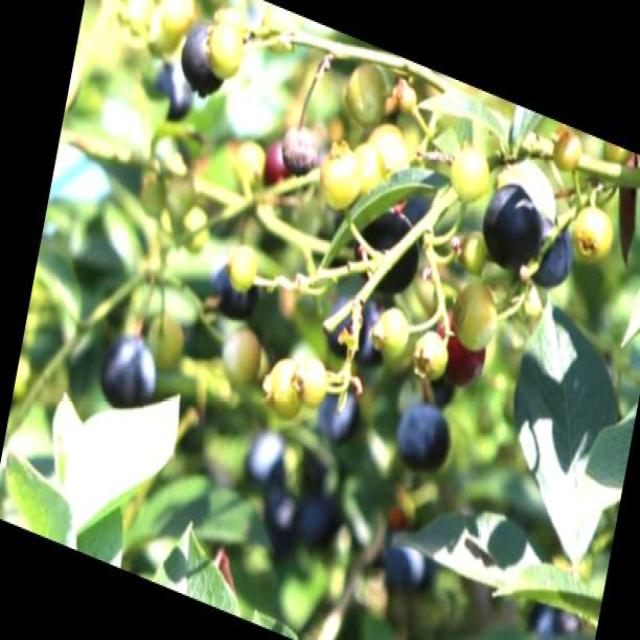blueberry: (346, 188, 428, 303), (474, 159, 551, 276), (94, 323, 161, 416), (390, 392, 455, 485), (203, 237, 269, 328), (320, 278, 389, 362), (173, 13, 233, 108), (380, 519, 440, 593), (525, 212, 576, 295), (311, 378, 366, 453)
blueberry-halfripe: (426, 308, 491, 396), (260, 134, 297, 192)
blueberry-unripe: (312, 133, 369, 220), (447, 271, 503, 358), (446, 132, 499, 215), (217, 320, 271, 397), (566, 195, 612, 268), (201, 12, 247, 82), (367, 118, 415, 185), (262, 348, 306, 421), (342, 60, 389, 128), (367, 296, 413, 364), (288, 348, 334, 413), (406, 318, 448, 384)
